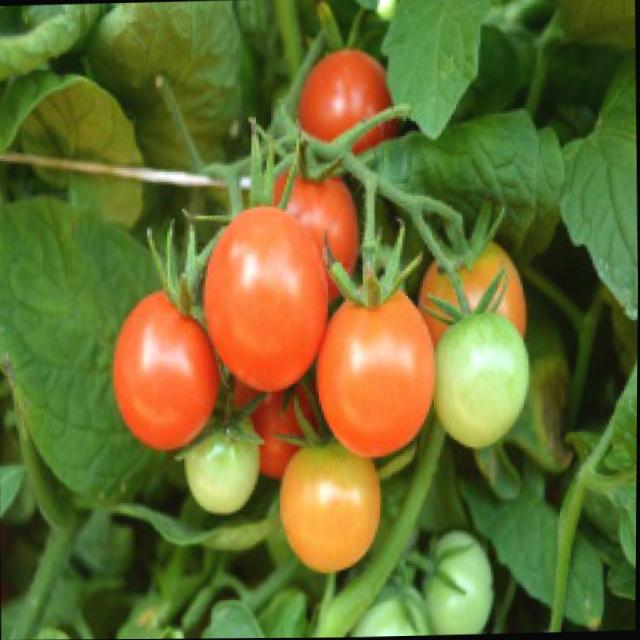tomato: (201, 205, 335, 396), (314, 290, 438, 463), (112, 290, 223, 455), (279, 442, 384, 579), (294, 51, 399, 154), (254, 371, 333, 485)
